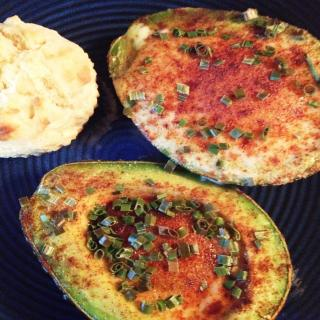Pizza: (19, 159, 295, 320), (0, 13, 100, 159), (204, 74, 316, 180), (115, 84, 200, 154), (109, 22, 194, 82), (247, 17, 319, 75), (196, 5, 258, 71), (138, 8, 186, 69)
